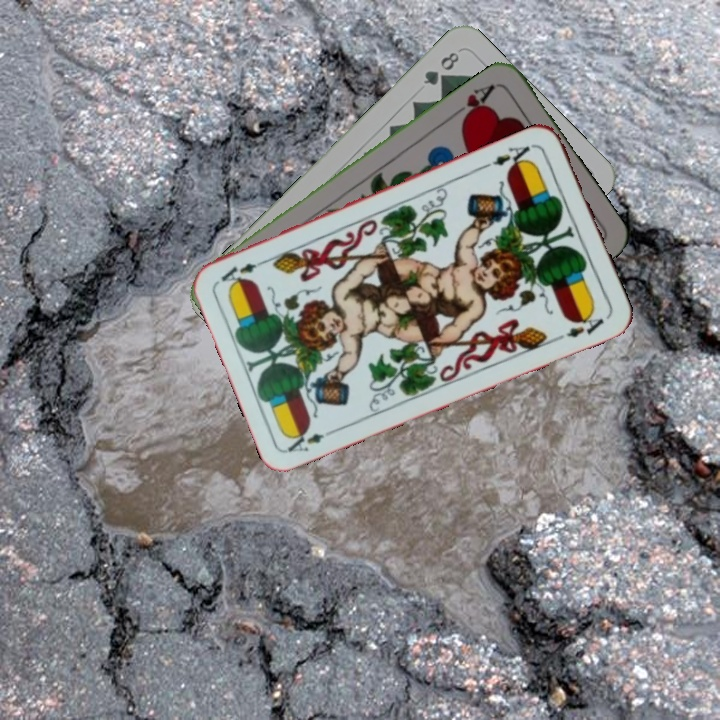EA: (481, 139, 538, 172), (283, 424, 340, 455)
G8: (419, 47, 462, 89)
HA: (448, 80, 497, 126)
